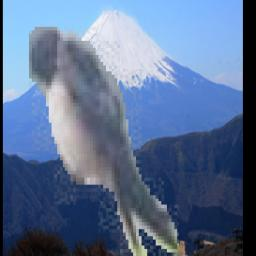Swallow: (29, 27, 179, 256)
